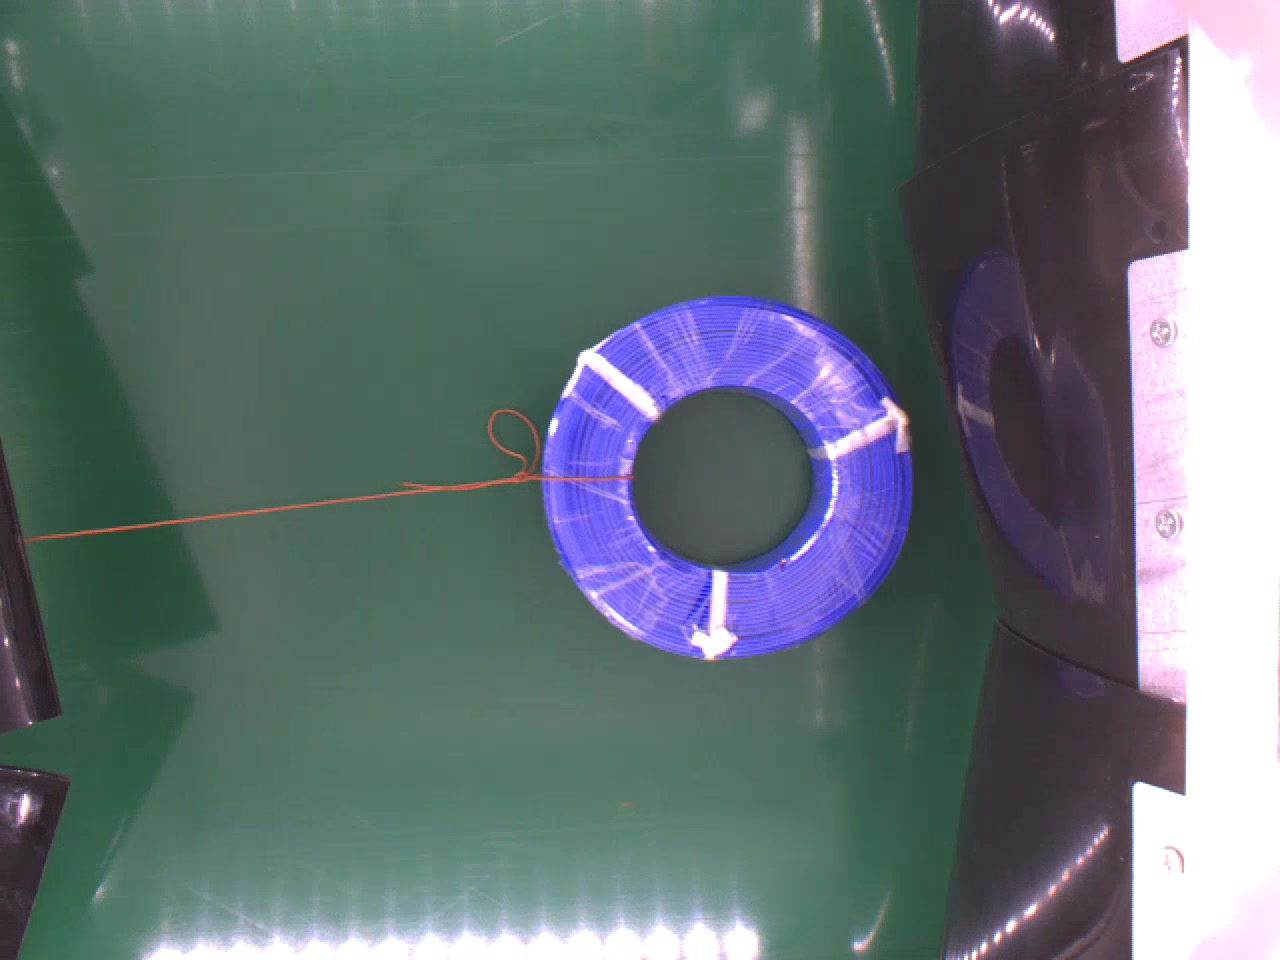blue: (538, 290, 918, 659)
